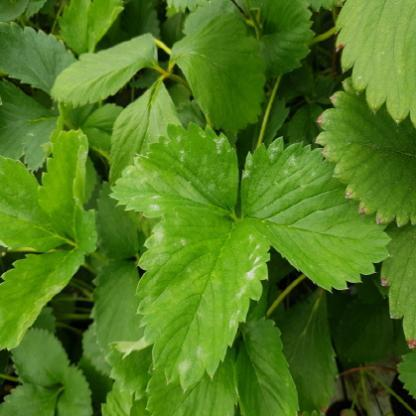Strawberry_Powdery_Mildew_Leaf: (132, 211, 272, 394), (240, 134, 393, 292), (106, 120, 240, 218)
